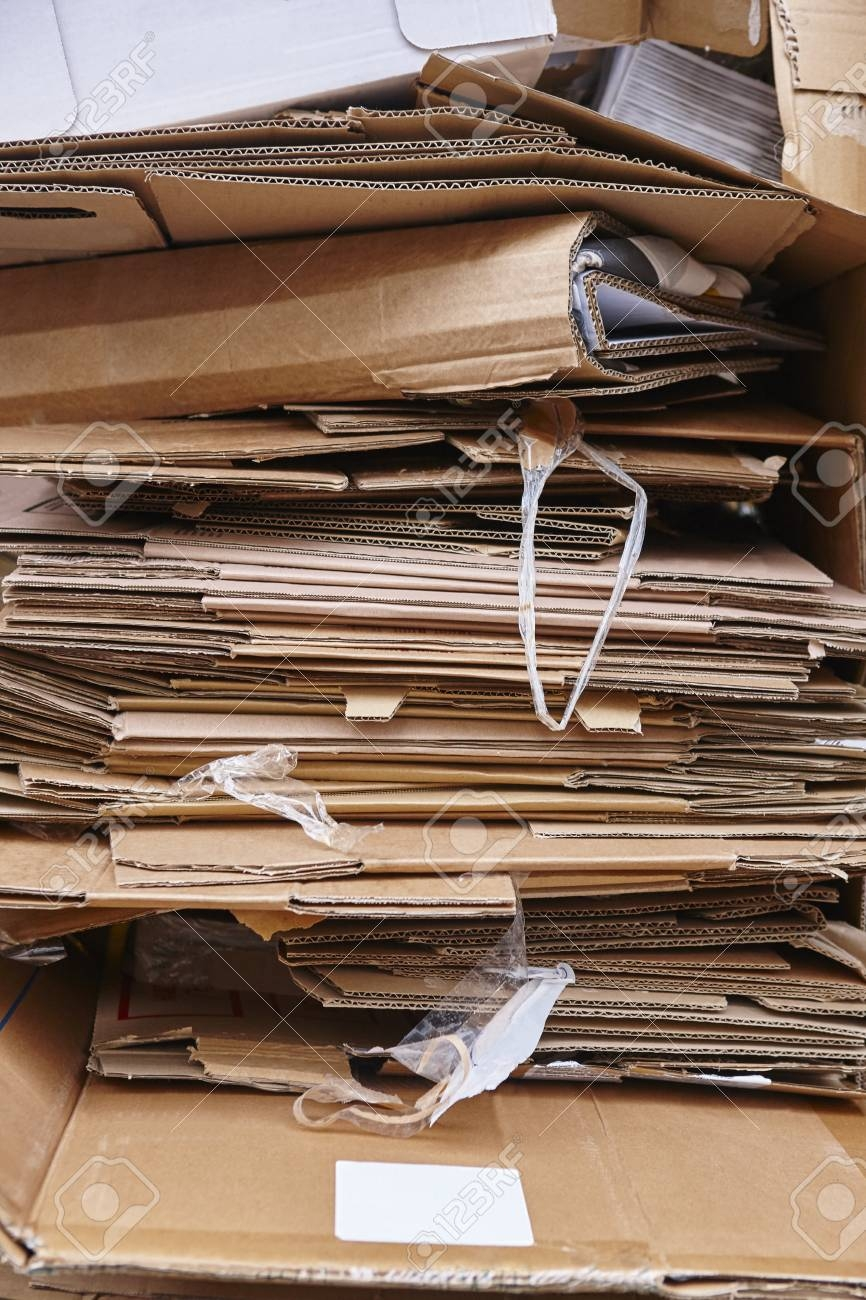paper: (10, 223, 837, 444), (19, 400, 837, 611), (15, 714, 849, 918), (6, 80, 834, 276), (198, 877, 859, 1120), (9, 545, 819, 740)
